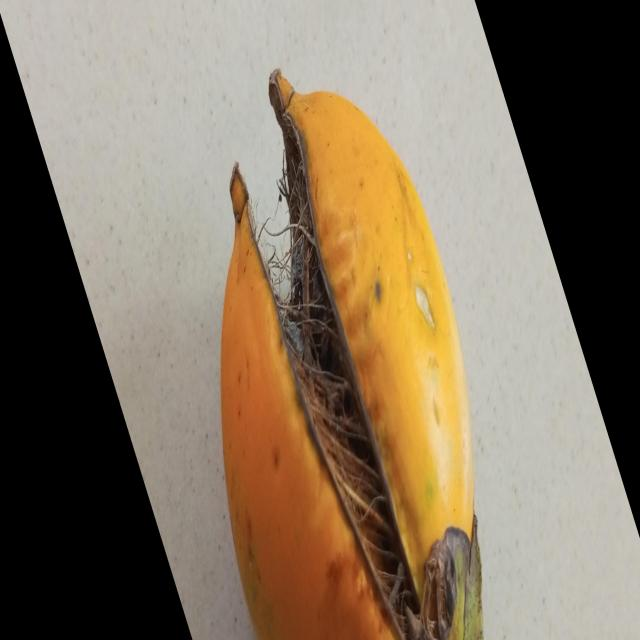damaged: (219, 71, 482, 640)
